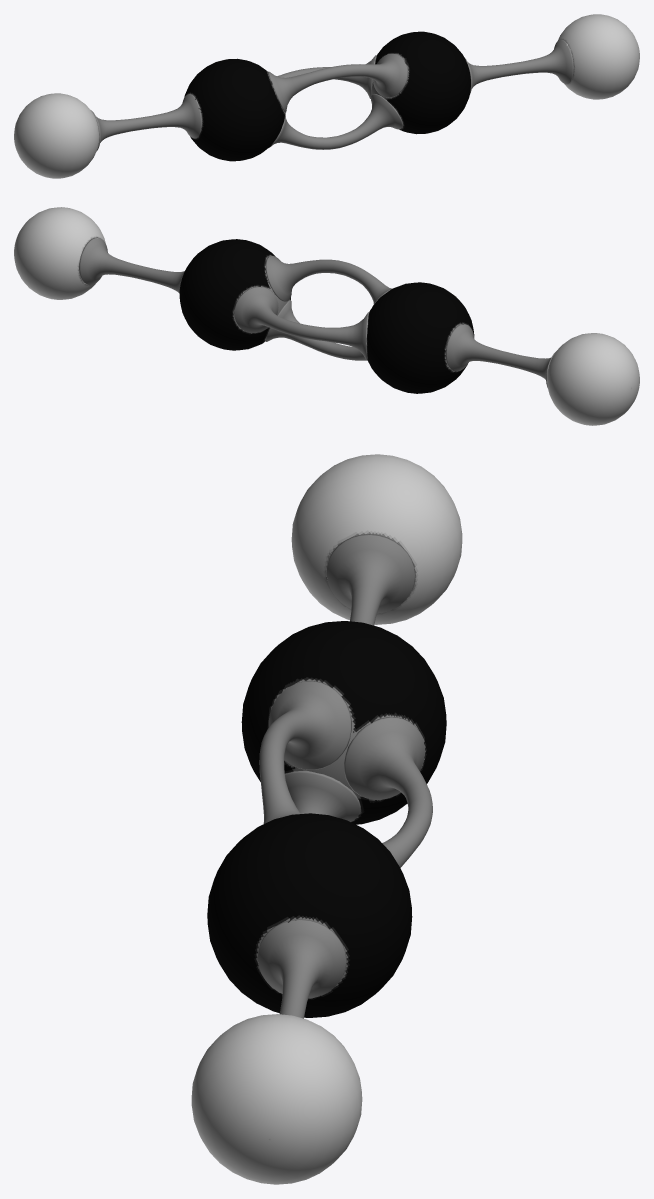
Rendered from ethyne.glb.
3 views of the same model, one above another, from view 1: azimuth 30°, elevation 25°; view 2: azimuth 150°, elevation 25°; view 3: azimuth 270°, elevation 25° (orthographic). The views are drawn at different scales.
Parts seen in each view (by area): view 1: mesh_id5, mesh_id4, mesh_id9, mesh_id7, mesh_id10, mesh_id11, mesh_id8, mesh_id6, mesh_id12; view 2: mesh_id5, mesh_id4, mesh_id9, mesh_id7, mesh_id12, mesh_id10, mesh_id8, mesh_id6, mesh_id11; view 3: mesh_id4, mesh_id7, mesh_id5, mesh_id9, mesh_id10, mesh_id12, mesh_id6, mesh_id8, mesh_id11.
Boxes of the visible parts, bbox=[...] form: mesh_id5: bbox=[184, 58, 284, 161]; mesh_id4: bbox=[371, 31, 470, 134]; mesh_id9: bbox=[14, 93, 99, 178]; mesh_id7: bbox=[558, 14, 639, 99]; mesh_id10: bbox=[267, 53, 407, 112]; mesh_id11: bbox=[269, 94, 402, 149]; mesh_id8: bbox=[91, 94, 201, 150]; mesh_id6: bbox=[465, 39, 573, 93]; mesh_id12: bbox=[277, 55, 376, 98]; mesh_id5: bbox=[366, 282, 474, 393]; mesh_id4: bbox=[179, 239, 290, 350]; mesh_id9: bbox=[547, 333, 639, 425]; mesh_id7: bbox=[14, 207, 105, 299]; mesh_id12: bbox=[234, 286, 369, 360]; mesh_id10: bbox=[265, 256, 394, 306]; mesh_id8: bbox=[445, 324, 556, 387]; mesh_id6: bbox=[79, 237, 184, 293]; mesh_id11: bbox=[265, 300, 366, 360]; mesh_id4: bbox=[207, 813, 412, 1017]; mesh_id7: bbox=[191, 1014, 362, 1184]; mesh_id5: bbox=[241, 621, 446, 824]; mesh_id9: bbox=[291, 454, 462, 624]; mesh_id10: bbox=[259, 681, 351, 823]; mesh_id12: bbox=[344, 717, 432, 867]; mesh_id6: bbox=[257, 919, 346, 1018]; mesh_id8: bbox=[326, 534, 415, 625]; mesh_id11: bbox=[285, 770, 360, 821].
Size of the model in its own units: 0.636 by 0.1092 by 0.1266.
9 materials, 9 textured.
